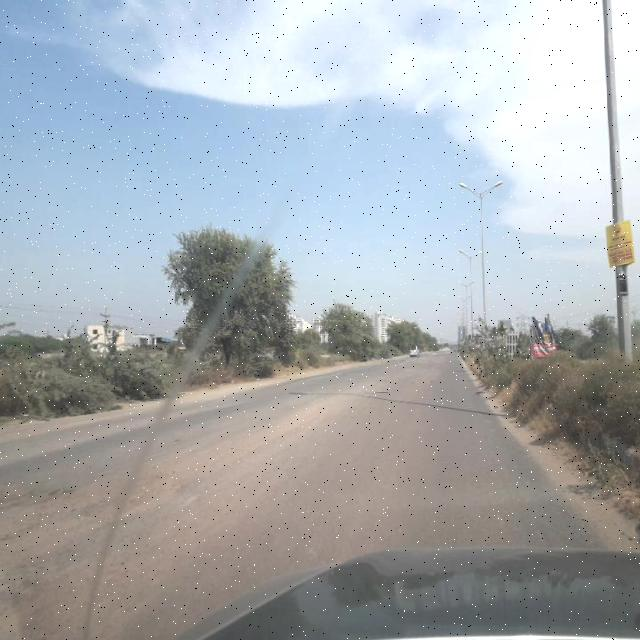D40: (2, 462, 186, 572)
